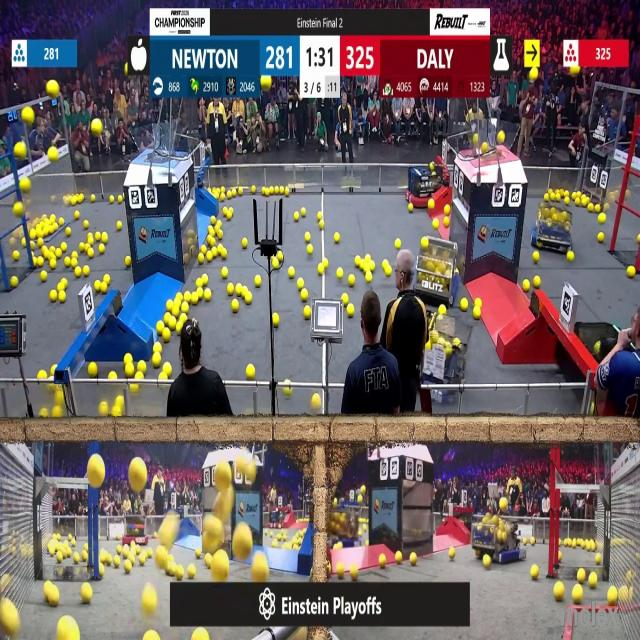ball_airborne: (90, 456, 106, 486), (131, 458, 146, 488), (216, 462, 231, 484), (236, 458, 248, 476), (246, 461, 256, 482), (23, 107, 35, 123), (46, 82, 58, 98), (13, 142, 24, 158), (21, 176, 31, 192), (92, 121, 102, 136), (13, 202, 23, 216), (50, 147, 59, 161), (498, 496, 506, 511), (263, 75, 272, 88), (497, 132, 505, 144), (530, 68, 538, 80), (482, 143, 488, 153), (472, 135, 478, 144), (360, 486, 366, 495)
ball_ground: (254, 555, 270, 582), (143, 590, 156, 614), (46, 587, 58, 607), (66, 624, 79, 640), (572, 586, 583, 604), (554, 584, 564, 602), (81, 586, 91, 604), (607, 589, 616, 606), (163, 362, 173, 376), (90, 361, 99, 376), (246, 363, 255, 378), (576, 568, 585, 583), (312, 394, 321, 409), (589, 573, 598, 587), (272, 313, 280, 327), (338, 563, 346, 577), (100, 404, 108, 418), (112, 406, 122, 417), (126, 362, 135, 374), (114, 396, 123, 408), (187, 565, 195, 578), (379, 554, 387, 567), (350, 566, 358, 579), (204, 288, 212, 301), (164, 328, 172, 341), (144, 632, 157, 640), (531, 565, 538, 579), (152, 354, 160, 366), (49, 290, 57, 302), (460, 300, 468, 312), (190, 292, 198, 304), (155, 322, 163, 334), (168, 563, 176, 575), (411, 553, 418, 566), (177, 566, 184, 579), (138, 360, 146, 371), (226, 284, 234, 295), (472, 308, 480, 319), (54, 409, 62, 420), (395, 552, 402, 564), (233, 301, 240, 313), (347, 306, 354, 318), (305, 307, 312, 319), (628, 267, 635, 279), (484, 556, 491, 568), (302, 289, 309, 301), (126, 562, 133, 574), (205, 556, 212, 568), (194, 278, 202, 288), (40, 410, 48, 420), (533, 277, 540, 288), (10, 277, 17, 288), (449, 549, 456, 560), (82, 267, 89, 278), (288, 268, 295, 279), (126, 353, 133, 364), (245, 292, 252, 303), (236, 284, 243, 295), (139, 555, 146, 566), (220, 248, 227, 259), (60, 290, 66, 302), (524, 280, 530, 292), (221, 268, 227, 280), (100, 564, 106, 576), (168, 302, 174, 314), (170, 316, 176, 328), (122, 547, 128, 559), (445, 206, 452, 216), (181, 304, 188, 314), (115, 220, 122, 230), (153, 344, 160, 354), (101, 284, 108, 294), (123, 256, 130, 266), (183, 290, 190, 300), (359, 262, 366, 272), (41, 247, 48, 257), (209, 237, 216, 247), (254, 276, 260, 287), (342, 293, 348, 304), (355, 255, 361, 266), (338, 269, 344, 280), (49, 260, 55, 271), (65, 256, 71, 267), (203, 275, 209, 286), (365, 273, 371, 284), (422, 238, 428, 249), (335, 233, 341, 244), (273, 260, 279, 271), (95, 281, 101, 292), (74, 553, 80, 564), (533, 251, 539, 262), (136, 370, 144, 378), (473, 297, 480, 306), (39, 369, 46, 378), (385, 268, 392, 277), (12, 251, 19, 260), (284, 388, 291, 397), (302, 208, 309, 217), (394, 240, 400, 250), (308, 244, 314, 254), (40, 272, 46, 282), (567, 251, 573, 261), (598, 234, 604, 244), (432, 219, 438, 229), (296, 279, 302, 289), (75, 268, 81, 278), (104, 275, 110, 285), (90, 248, 96, 258), (445, 218, 451, 228), (325, 260, 331, 270), (599, 213, 605, 223), (199, 253, 205, 263), (441, 306, 447, 316), (349, 276, 355, 286), (102, 234, 108, 244), (317, 266, 323, 276), (114, 557, 120, 567), (226, 209, 232, 219), (147, 551, 153, 561), (58, 553, 64, 563), (89, 236, 95, 246), (176, 324, 182, 334), (211, 245, 217, 255), (100, 554, 106, 564), (115, 544, 122, 552), (316, 212, 323, 220), (428, 201, 434, 210), (368, 264, 374, 273), (293, 213, 299, 222), (66, 229, 72, 238), (78, 243, 84, 252), (57, 249, 63, 258), (201, 245, 207, 254), (82, 553, 88, 562), (110, 370, 116, 379), (61, 243, 67, 252), (19, 239, 25, 248), (596, 204, 602, 213), (278, 251, 284, 260), (589, 204, 595, 213), (222, 208, 228, 217), (100, 244, 105, 254), (243, 238, 248, 248), (306, 234, 311, 244), (319, 220, 324, 230), (96, 233, 101, 243), (596, 554, 601, 564), (183, 254, 188, 264), (383, 259, 388, 269), (58, 283, 65, 290), (195, 550, 201, 558), (180, 314, 186, 322), (74, 211, 80, 219), (176, 292, 182, 300), (574, 200, 580, 208), (284, 188, 290, 196), (208, 225, 214, 233), (38, 239, 44, 247), (238, 187, 244, 195), (558, 554, 564, 562), (132, 384, 138, 392), (409, 204, 414, 213), (207, 252, 212, 261), (72, 257, 77, 266), (108, 195, 114, 202), (337, 542, 343, 549), (571, 191, 577, 198), (83, 220, 88, 228), (34, 256, 38, 266), (92, 193, 97, 201), (217, 232, 222, 240), (211, 216, 216, 224), (565, 199, 570, 207), (31, 241, 36, 249), (136, 544, 141, 552), (251, 185, 256, 193), (83, 542, 88, 550), (226, 190, 231, 198), (233, 188, 238, 196), (120, 196, 124, 205), (363, 540, 369, 546), (50, 365, 54, 374), (115, 534, 121, 540), (72, 251, 77, 258), (273, 540, 278, 547), (220, 192, 224, 200), (531, 537, 535, 545), (636, 236, 640, 244), (61, 217, 65, 225), (543, 192, 547, 200), (71, 539, 76, 545), (524, 538, 528, 544)
goal: (468, 124, 521, 160), (130, 128, 188, 160)
robot_blue: (418, 318, 470, 406), (472, 513, 524, 565), (534, 200, 574, 254), (330, 506, 363, 547)
robot_red: (414, 242, 461, 309), (406, 162, 451, 207), (124, 514, 150, 544), (267, 512, 288, 528)
